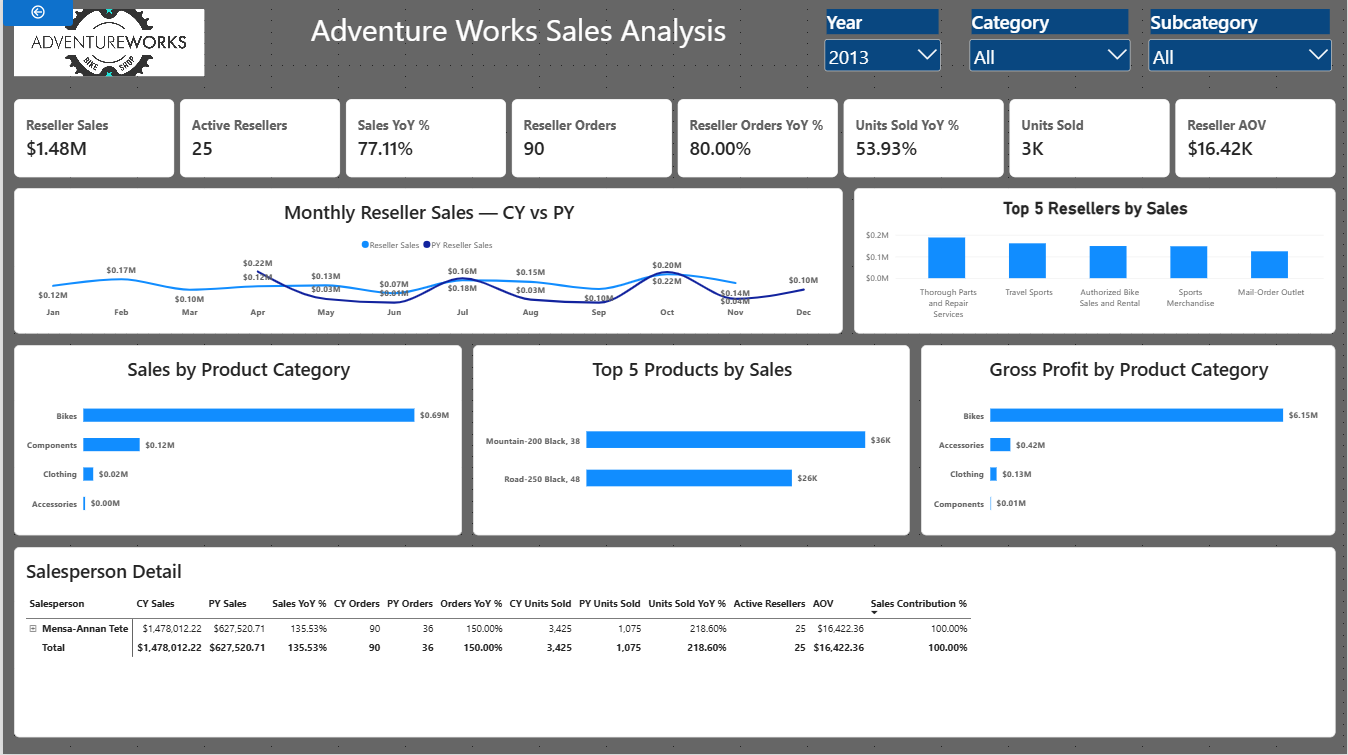

This screenshot's page, from the dashboard's own definition file:
{"tool":"powerbi","page":{"name":"Salesperson Drillthrough","canvas":[1920,1080],"ordinal":6},"visuals":[{"type":"textbox","box":[304,16,864,96],"z":0},{"type":"image","box":[16,16,272,96],"z":1000},{"type":"slicer","fields":{"Values":["DimDate.CalendarYear"]},"box":[1168,16,176,96],"z":2000},{"type":"slicer","fields":{"Values":["DimProductCategory.EnglishProductCategoryName"]},"box":[1376,16,240,96],"z":3000},{"type":"slicer","fields":{"Values":["DimProductSubcategory.EnglishProductSubcategoryName"]},"box":[1632,16,272,96],"z":4000},{"type":"lineChart","title":"Monthly Reseller Sales — CY vs PY","fields":{"Category":["DimDate.Short Month Name"],"Y":["_Measures.Reseller Sales","_Measures.PY Reseller Sales"]},"box":[16,272,1184,208],"z":5000},{"type":"cardVisual","fields":{"Data":["_Measures.Reseller Sales","_Measures.Active Resellers","_Measures.Reseller Sales YoY %","_Measures.Reseller Orders","_Measures.Reseller Orders YoY %","_Measures.Reseller Units Sold YoY %","_Measures.Reseller Units Sold","_Measures.Reseller AOV"]},"box":[16,144,1888,112],"z":6000},{"type":"barChart","title":"Top 5 Products by Sales","fields":{"Y":["_Measures.Reseller Sales"],"Category":["DimProduct.EnglishProductName"]},"box":[672,496,624,272],"z":7000},{"type":"barChart","title":"Gross Profit by Product Category","fields":{"Y":["_Measures.Combined Gross Profit"],"Category":["DimProductCategory.EnglishProductCategoryName"]},"box":[1312,496,592,272],"z":8000},{"type":"clusteredColumnChart","title":"Top 5 Resellers by Sales","fields":{"Y":["_Measures.Reseller Sales"],"Category":["DimReseller.ResellerName"]},"box":[1216,272,688,208],"z":9000},{"type":"pivotTable","title":"Salesperson Detail","fields":{"Rows":["DimEmployee.Salesperson","DimReseller.ResellerName","DimProductCategory.EnglishProductCategoryName","DimProductSubcategory.EnglishProductSubcategoryName"],"Values":["_Measures.Reseller Sales","_Measures.PY Reseller Sales","_Measures.Reseller Sales YoY %","_Measures.Reseller Orders","_Measures.PY Reseller Orders","_Measures.Reseller Orders YoY %","_Measures.Reseller Units Sold","_Measures.PY Reseller Units Sold","_Measures.Test Reseller Units Sold YoY %","_Measures.Active Resellers","_Measures.Reseller AOV","_Measures.Salesperson Detail Sales Contribution %"]},"box":[16,784,1888,272],"z":10000},{"type":"barChart","title":"Sales by Product Category","fields":{"Category":["DimProductCategory.EnglishProductCategoryName"],"Y":["_Measures.PY Reseller Sales"]},"box":[16,496,640,272],"z":11000},{"type":"actionButton","box":[0,0,100,40],"z":12000}]}

Visuals, with their boxes on the page's 1920x1080 design canvas (x1, y1, x2, y2). These are canvas units, not pixel positions in the 1348x755 screenshot, which may show the page scaled, cropped or inside an application window:
textbox: bbox=(304, 16, 1168, 112)
image: bbox=(16, 16, 288, 112)
slicer - DimDate.CalendarYear: bbox=(1168, 16, 1344, 112)
slicer - DimProductCategory.EnglishProductCategoryName: bbox=(1376, 16, 1616, 112)
slicer - DimProductSubcategory.EnglishProductSubcategoryName: bbox=(1632, 16, 1904, 112)
"Monthly Reseller Sales — CY vs PY" lineChart: bbox=(16, 272, 1200, 480)
cardVisual - _Measures.Reseller Sales x _Measures.Active Resellers: bbox=(16, 144, 1904, 256)
"Top 5 Products by Sales" barChart: bbox=(672, 496, 1296, 768)
"Gross Profit by Product Category" barChart: bbox=(1312, 496, 1904, 768)
"Top 5 Resellers by Sales" clusteredColumnChart: bbox=(1216, 272, 1904, 480)
"Salesperson Detail" pivotTable: bbox=(16, 784, 1904, 1056)
"Sales by Product Category" barChart: bbox=(16, 496, 656, 768)
actionButton: bbox=(0, 0, 100, 40)
